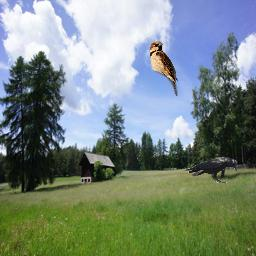Crow: (184, 157, 237, 183)
Swallow: (149, 41, 178, 96)
